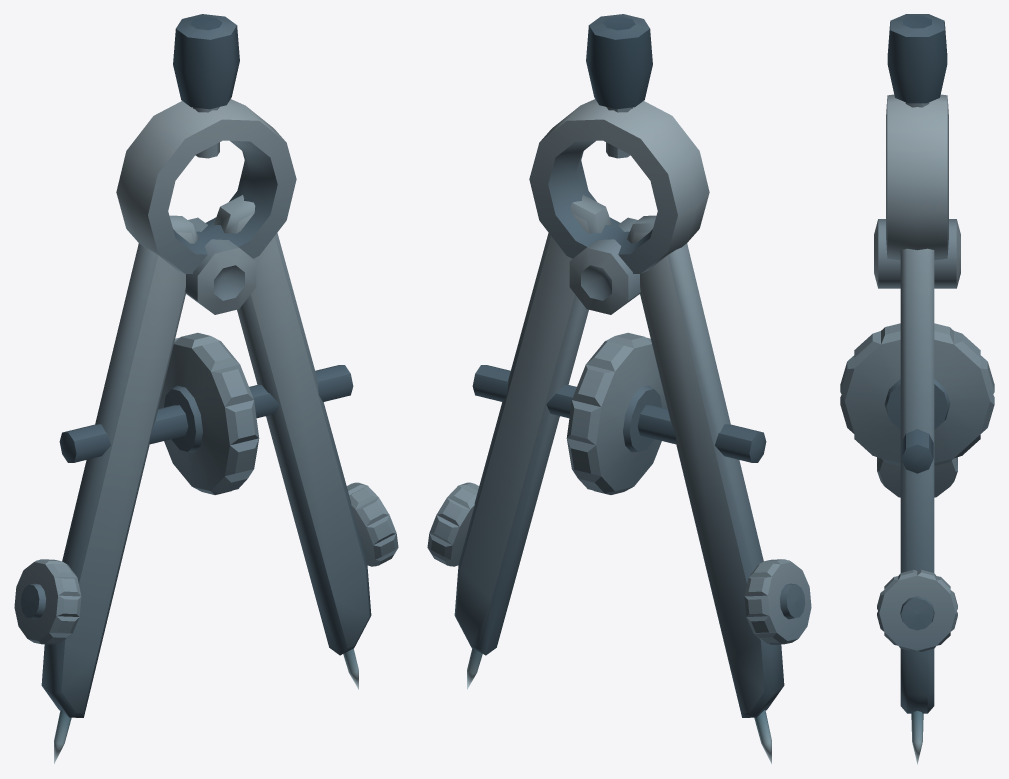
File: drafting_compass.fbx
3 views of the same model, side by side, from view 1: azimuth 30°, elevation 25°; view 2: azimuth 150°, elevation 25°; view 3: azimuth 270°, elevation 25° (orthographic). The views are drawn at different scales.
Parts seen in each view (by area): view 1: drafting_compass, drafting_compass_legRight, drafting_compass_legLeft, drafting_compass_wheel; view 2: drafting_compass, drafting_compass_legRight, drafting_compass_legLeft, drafting_compass_wheel; view 3: drafting_compass, drafting_compass_legLeft, drafting_compass_wheel, drafting_compass_legRight.
Part boxes in pixels (bbox=[...]): drafting_compass: bbox=[59, 14, 353, 462]; drafting_compass_legRight: bbox=[14, 215, 198, 763]; drafting_compass_legLeft: bbox=[214, 195, 398, 689]; drafting_compass_wheel: bbox=[158, 332, 259, 494]; drafting_compass: bbox=[472, 14, 766, 462]; drafting_compass_legRight: bbox=[627, 215, 811, 763]; drafting_compass_legLeft: bbox=[427, 195, 611, 689]; drafting_compass_wheel: bbox=[566, 332, 667, 494]; drafting_compass: bbox=[874, 14, 960, 473]; drafting_compass_legLeft: bbox=[877, 248, 957, 764]; drafting_compass_wheel: bbox=[840, 323, 994, 465]; drafting_compass_legRight: bbox=[877, 457, 957, 497].
Size of the model in its own units: 45.77 by 85.42 by 17.76.
